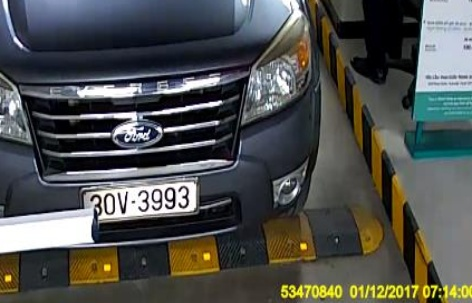plate: (74, 182, 204, 218)
